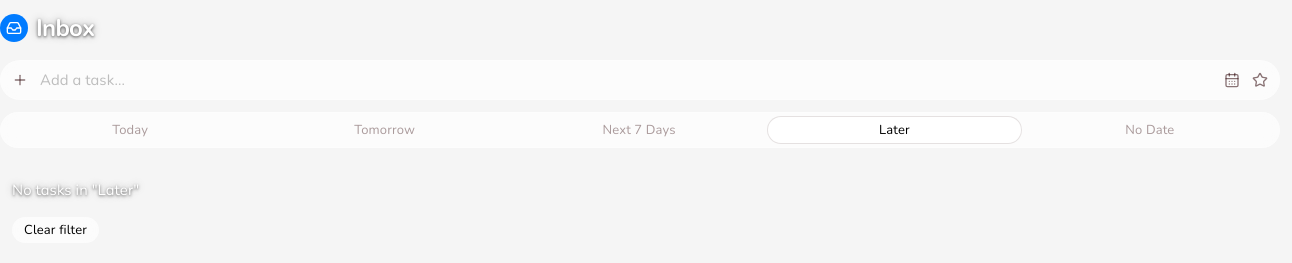
Test case: TaskList › offers a way back out of the filter
The width and height of the screenshot is (1292, 263).
Click the button "Clear filter".
click(56, 230)  # box 12,217 -> 99,243
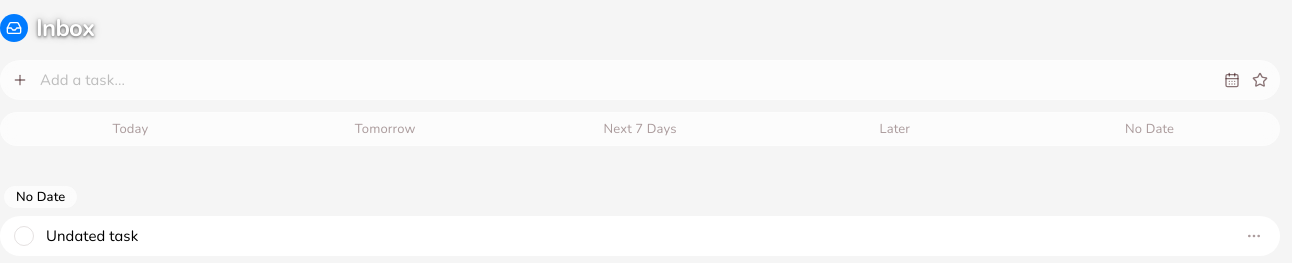
Now the text "Undated task" is shown, box 46,226 -> 138,246
Now the text "No tasks in \"Later\"" is gone
